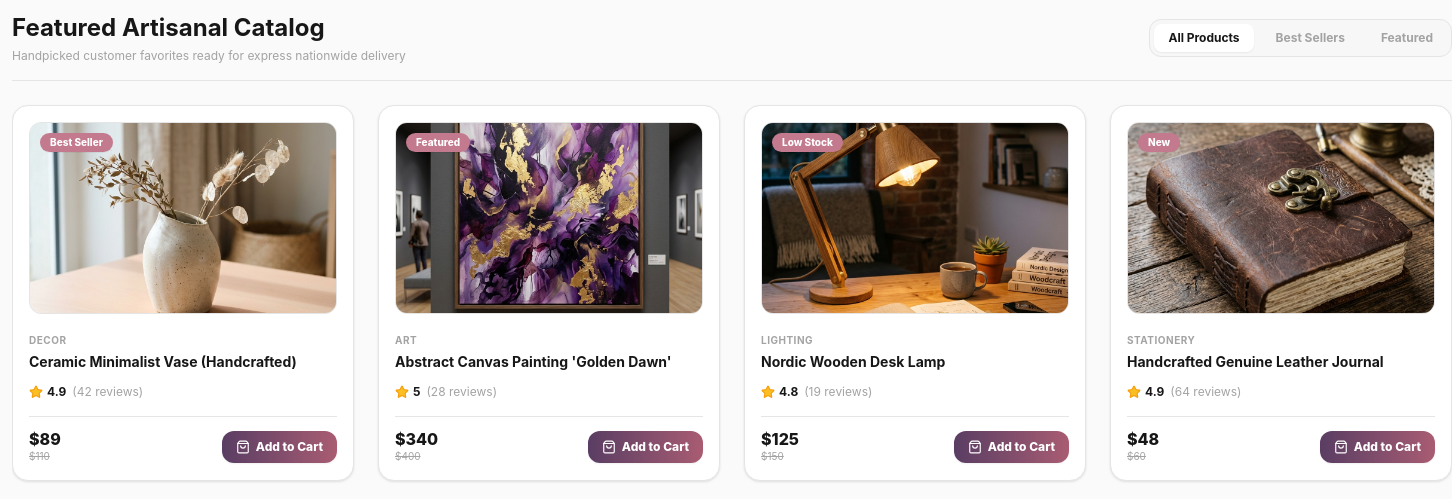
Scenario: Storefront Homepage Sections & Utilities › FeaturedProductsGrid › renders product catalog grid and handles tab selection & add to cart
Expected: the heading "Featured Artisanal Catalog" is shown, [12,13,325,42]
Expected: the heading "Ceramic Minimalist Vase (Handcrafted)" is shown, [29,352,337,372]
Click the button "Add to Cart" in the row of "$89": (279, 446) [222,430,337,462]
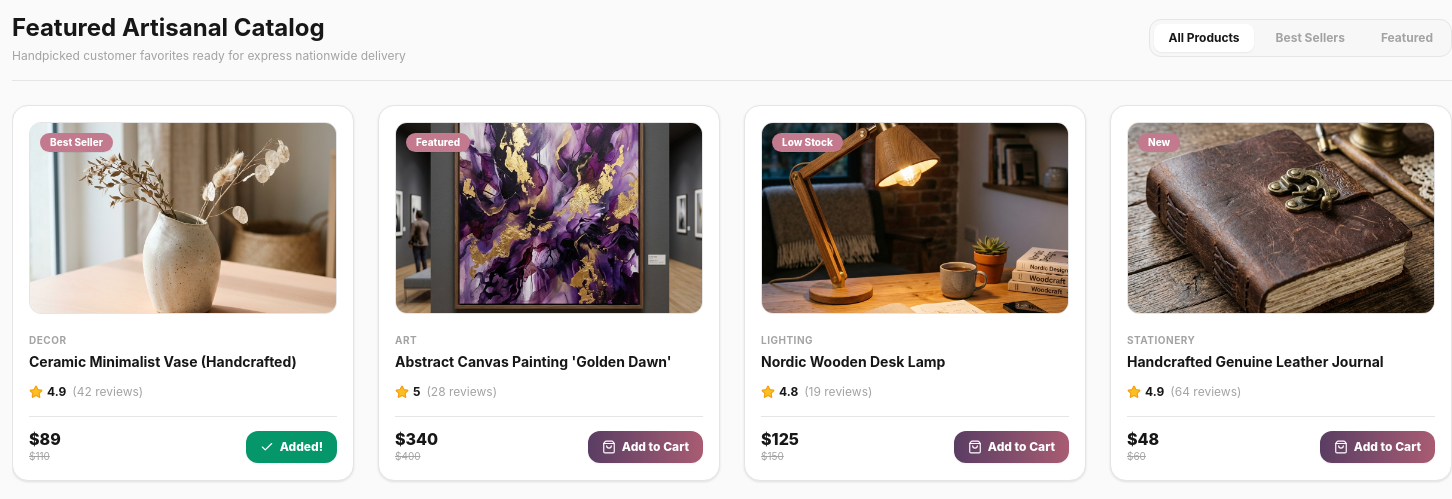
Expected: the text "Added!" is shown, [280,438,323,454]
